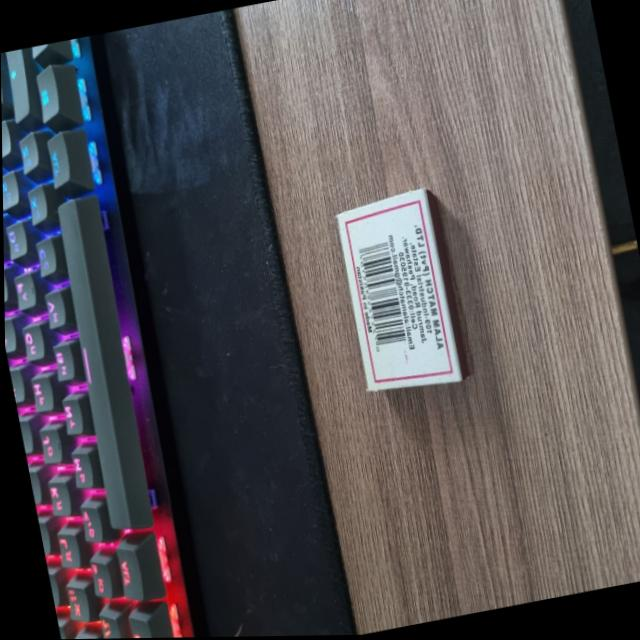match: (329, 185, 473, 405)
